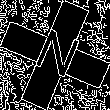N_SW: (27, 24, 83, 86)
